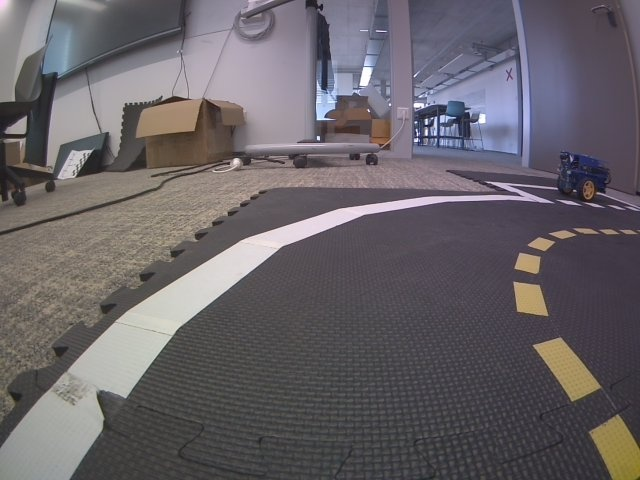Bot: (555, 149, 613, 200)
occupiedSlot: (486, 180, 640, 210)
